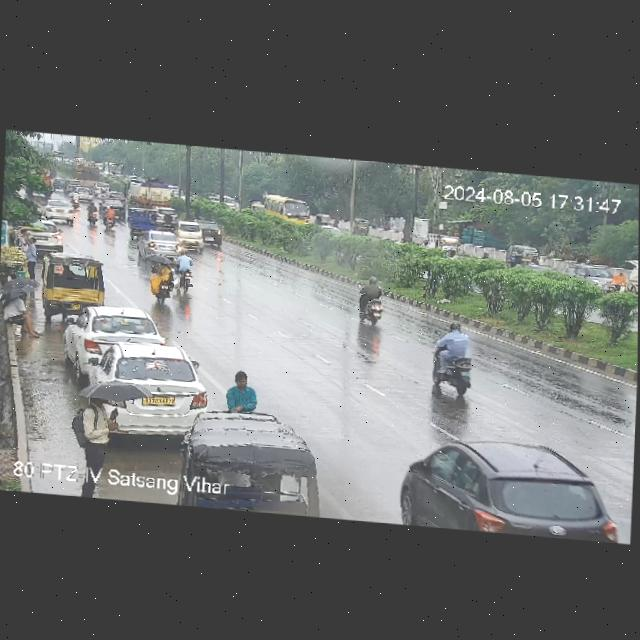bus: (263, 195, 313, 229)
car: (391, 429, 614, 542), (191, 408, 326, 497), (93, 340, 210, 437), (65, 302, 159, 366), (40, 250, 109, 311), (13, 216, 65, 248), (562, 262, 618, 290), (135, 231, 184, 259), (174, 220, 207, 253), (227, 369, 254, 405), (431, 231, 463, 260), (124, 206, 158, 232), (506, 242, 540, 266), (42, 198, 75, 222), (99, 196, 126, 221), (201, 220, 223, 243), (155, 205, 178, 227), (352, 216, 373, 236), (76, 187, 92, 201), (52, 176, 65, 192), (95, 182, 109, 196), (108, 190, 125, 201), (63, 179, 75, 194), (251, 202, 264, 215)
motorcycle: (428, 323, 474, 397), (355, 275, 390, 326), (150, 253, 177, 303), (175, 253, 197, 297), (102, 204, 118, 231), (85, 201, 101, 227), (70, 190, 79, 209), (422, 239, 428, 248)
person: (79, 393, 116, 462), (6, 291, 40, 337), (15, 234, 41, 277)
truck: (126, 176, 172, 205), (71, 160, 101, 185), (106, 161, 123, 179)
